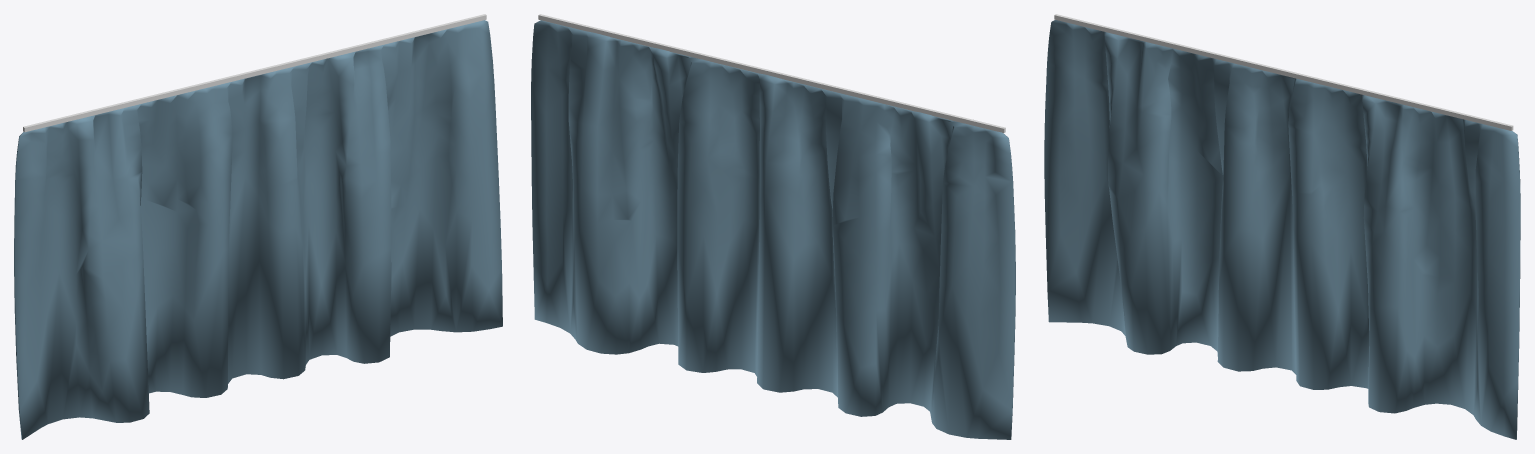
Rendered from Curtain.fbx.
3 views of the same model, side by side, from view 1: azimuth 30°, elevation 25°; view 2: azimuth 150°, elevation 25°; view 3: azimuth 330°, elevation 25° (orthographic).
Visible parts, largest first — view 1: Grid, Curtain; view 2: Grid, Curtain; view 3: Grid, Curtain.
Boxes of the visible parts, left/top/right/bottom form: Grid: left=14, top=20, right=502, bottom=439; Curtain: left=23, top=14, right=486, bottom=132; Grid: left=531, top=20, right=1015, bottom=439; Curtain: left=538, top=14, right=1005, bottom=132; Grid: left=1044, top=20, right=1520, bottom=439; Curtain: left=1054, top=14, right=1513, bottom=130.
Size of the model in its own units: 331 by 203 by 32.26.
